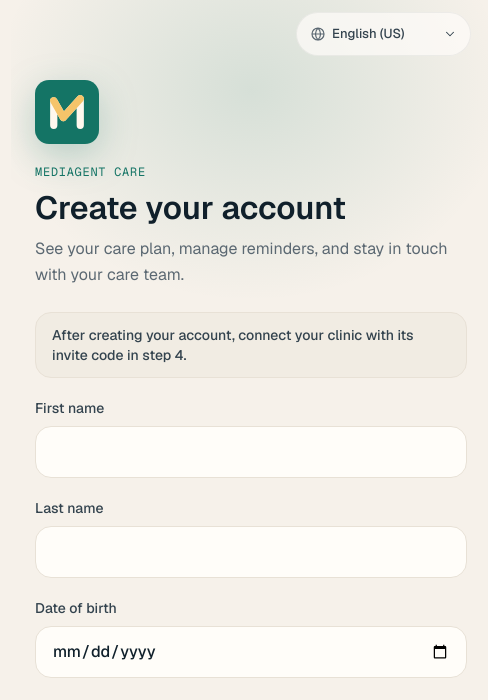
Test case: Patient signup page › starts without an invented birth date and translates password mismatch feedback
Expected: the date field labelled "Date of birth" is empty, [35,626,467,678]
Select "Español (México)" in the dropdown named "Language": (384,34) [296,12,471,56]
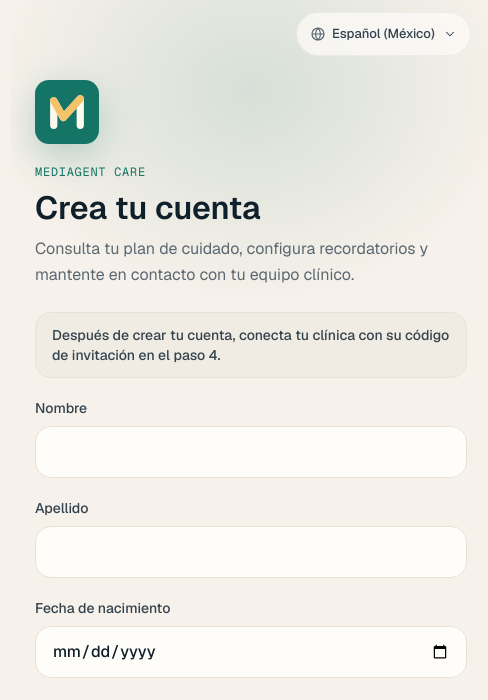
In the field labelled "Nombre": (251,452) [35,426,467,478], type "Paciente"
In the field labelled "Apellido": (251,552) [35,526,467,578], type "Sintético"
In the date field labelled "Fecha de nacimiento": (251,652) [35,626,467,678], type "1990-01-01"
(page scrolled)
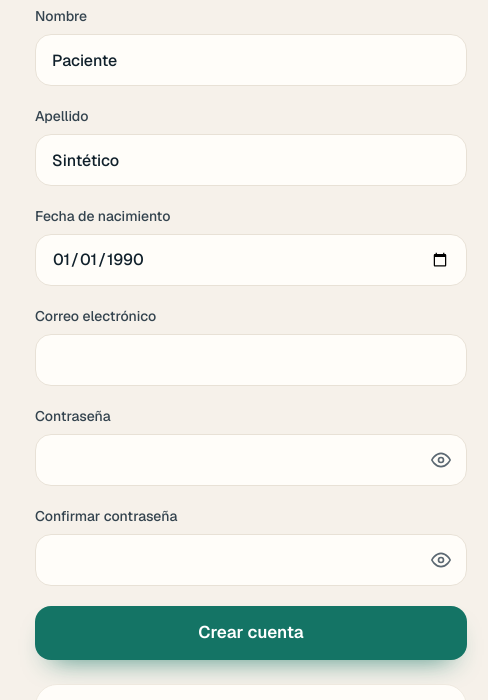
In the field labelled "Correo electrónico": (251,360) [35,334,467,386], type "patient@example.com"
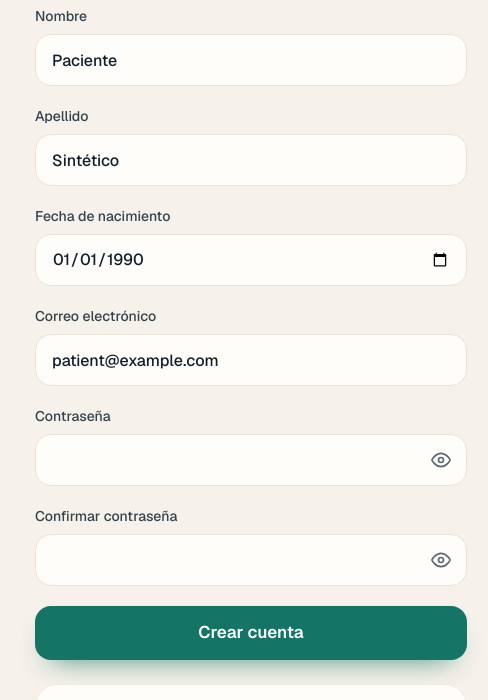
In the password field labelled "Contraseña": (251,460) [35,434,467,486], type "SyntheticPass123!"
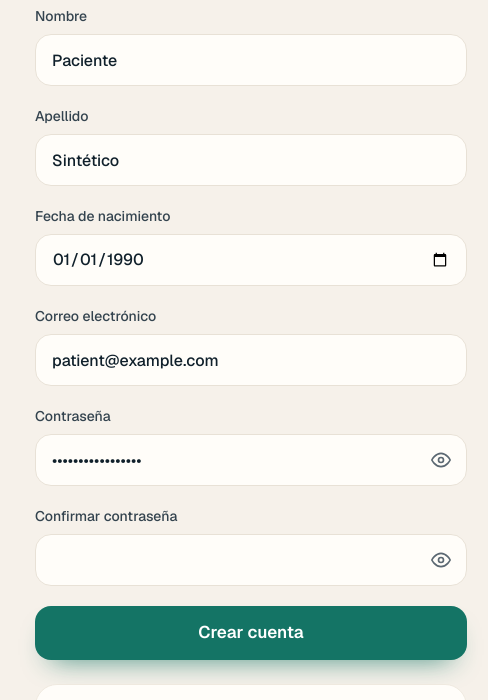
In the password field labelled "Confirmar contraseña": (251,560) [35,534,467,586], type "different"
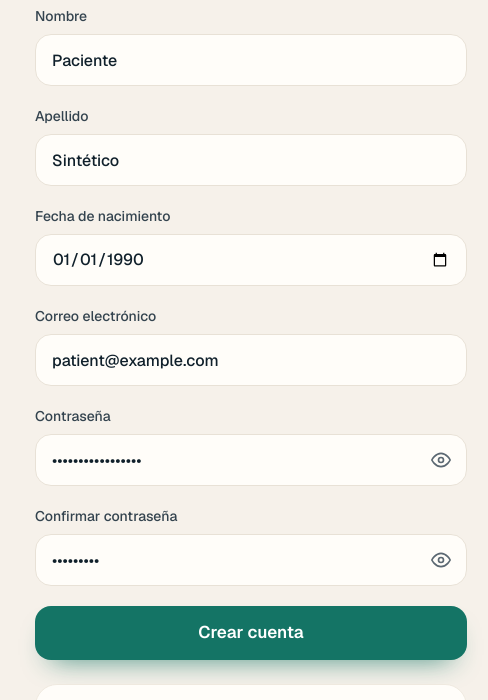
Click the button "Crear cuenta": (251,633) [35,606,467,660]
(page scrolled)
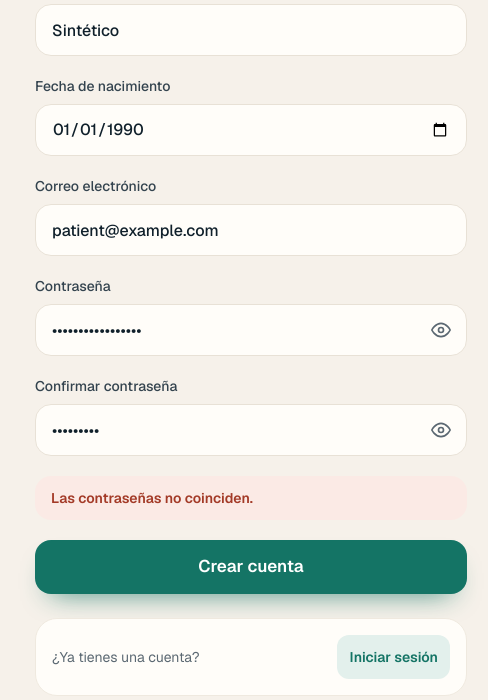
Now the message shows "Las contraseñas no coinciden", box [51,489,253,507]
